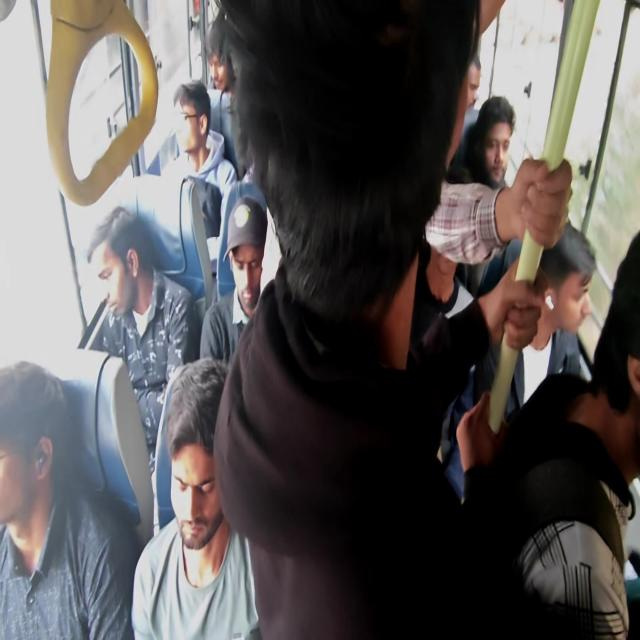person: (210, 0, 573, 638), (409, 3, 572, 499), (456, 228, 640, 638), (0, 359, 139, 639), (130, 356, 260, 638), (86, 205, 195, 476), (488, 220, 597, 432), (160, 79, 238, 239), (199, 190, 268, 364), (528, 220, 597, 378), (203, 11, 254, 184), (461, 94, 516, 190)
